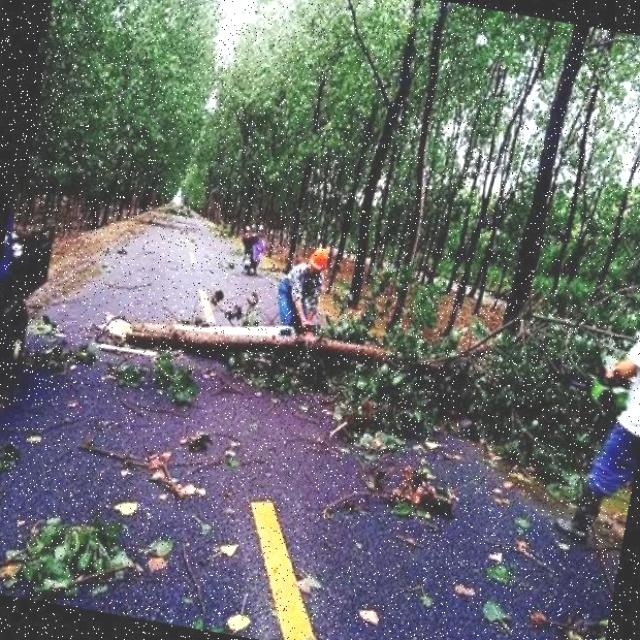fallen_object: (91, 214, 640, 442)
